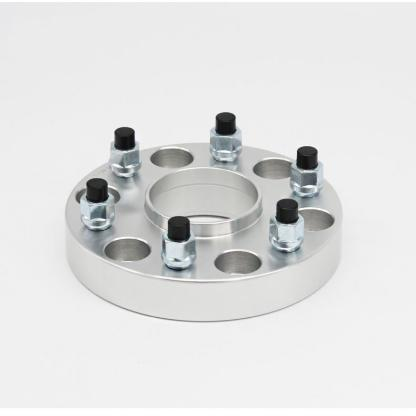FOD: (57, 130, 354, 330)
